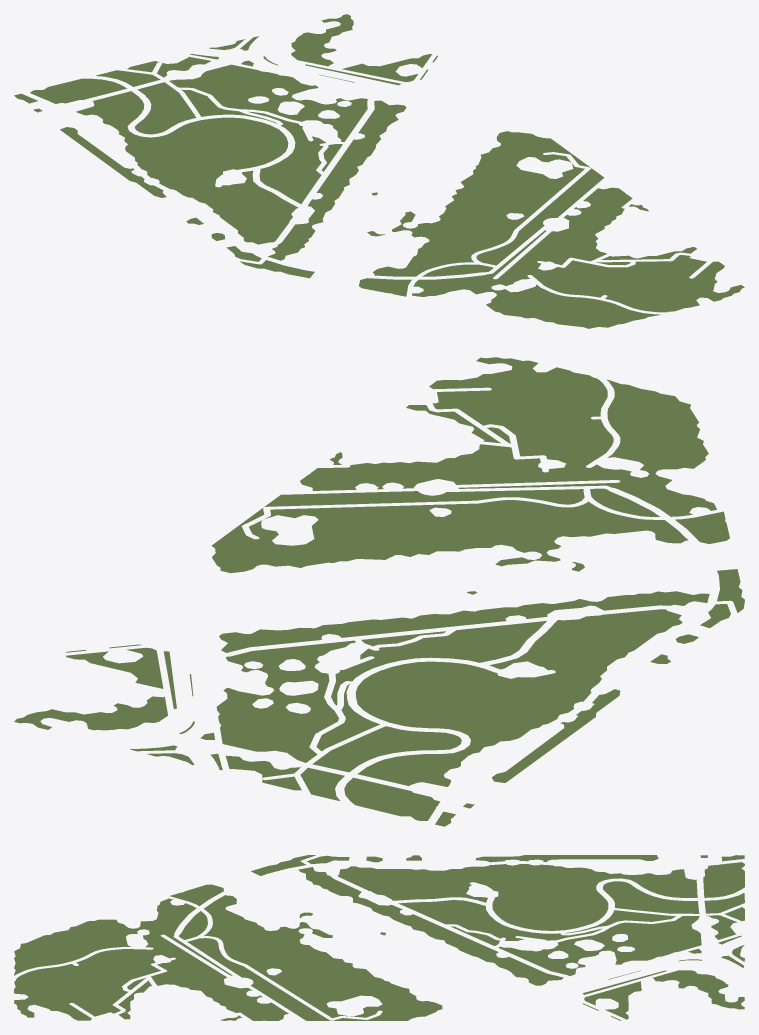
The model's file is tokyo-gardens.glb.
3 views of the same model, one above another, from view 1: azimuth 30°, elevation 25°; view 2: azimuth 150°, elevation 25°; view 3: azimuth 270°, elevation 25° (orthographic). The views are drawn at different scales.
Parts seen in each view (by area): view 1: Shiokaze lawn 3, Shiokaze lawn 24, Shiokaze lawn 0, Shiokaze lawn 12, Shiokaze lawn 10, Shiokaze lawn 19, Shiokaze lawn 27, Shiokaze lawn 7, Shiokaze lawn 30, Shiokaze lawn 33, Shiokaze lawn 4, Shiokaze lawn 23 (+3 smaller); view 2: Shiokaze lawn 3, Shiokaze lawn 0, Shiokaze lawn 24, Shiokaze lawn 12, Shiokaze lawn 10, Shiokaze lawn 19, Shiokaze lawn 27, Shiokaze lawn 7, Shiokaze lawn 30, Shiokaze lawn 33, Shiokaze lawn 4, Shiokaze lawn 23 (+5 smaller); view 3: Shiokaze lawn 3, Shiokaze lawn 24, Shiokaze lawn 0, Shiokaze lawn 12, Shiokaze lawn 10, Shiokaze lawn 19, Shiokaze lawn 27, Shiokaze lawn 7, Shiokaze lawn 30, Shiokaze lawn 33, Shiokaze lawn 4, Shiokaze lawn 23 (+6 smaller).
Boxes of the visible parts, x1,y1,x2,y2 form: Shiokaze lawn 3: [412, 187, 744, 328]; Shiokaze lawn 24: [76, 91, 298, 244]; Shiokaze lawn 0: [373, 131, 604, 276]; Shiokaze lawn 12: [169, 64, 368, 141]; Shiokaze lawn 10: [268, 100, 406, 260]; Shiokaze lawn 19: [248, 111, 325, 204]; Shiokaze lawn 27: [135, 82, 196, 134]; Shiokaze lawn 7: [291, 14, 353, 66]; Shiokaze lawn 30: [30, 78, 126, 103]; Shiokaze lawn 33: [60, 127, 166, 197]; Shiokaze lawn 4: [342, 54, 431, 81]; Shiokaze lawn 23: [181, 89, 276, 123]; Shiokaze lawn 3: [300, 357, 716, 516]; Shiokaze lawn 0: [211, 489, 687, 573]; Shiokaze lawn 24: [355, 609, 682, 786]; Shiokaze lawn 12: [216, 640, 355, 762]; Shiokaze lawn 10: [219, 591, 709, 652]; Shiokaze lawn 19: [331, 621, 546, 705]; Shiokaze lawn 27: [312, 726, 461, 772]; Shiokaze lawn 7: [14, 696, 167, 730]; Shiokaze lawn 30: [344, 777, 440, 820]; Shiokaze lawn 33: [492, 689, 620, 782]; Shiokaze lawn 4: [66, 647, 163, 688]; Shiokaze lawn 23: [316, 684, 379, 751]; Shiokaze lawn 3: [14, 898, 288, 1020]; Shiokaze lawn 24: [337, 864, 697, 930]; Shiokaze lawn 0: [187, 895, 442, 1020]; Shiokaze lawn 12: [498, 916, 701, 975]; Shiokaze lawn 10: [298, 867, 563, 985]; Shiokaze lawn 19: [398, 900, 601, 940]; Shiokaze lawn 27: [603, 881, 699, 913]; Shiokaze lawn 7: [653, 970, 744, 1009]; Shiokaze lawn 30: [703, 862, 744, 897]; Shiokaze lawn 33: [475, 855, 658, 862]; Shiokaze lawn 4: [584, 981, 641, 1019]; Shiokaze lawn 23: [565, 910, 675, 933].
Bounding box in the file's own units: 354 × 0 × 660.
